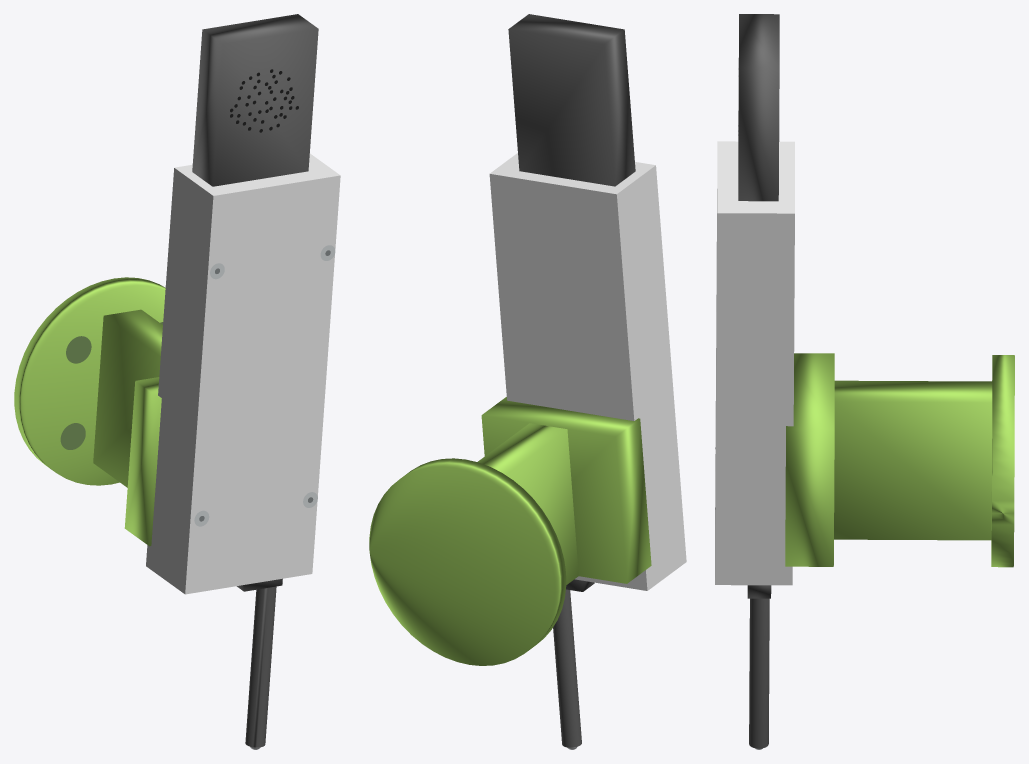
The model's file is pipette_stand_metal_tip.glb.
The picture shows the model from 3 angles, left to right: view 1: azimuth 30°, elevation 25°; view 2: azimuth 150°, elevation 25°; view 3: azimuth 270°, elevation 25°; orthographic projection.
Visible parts, largest first — view 1: white_housing, black_head, green_base, green_upright, green_mount, black_rod, black_vent_marks, green_hole_A_mark, green_hole_B_mark; view 2: white_housing, green_base, black_head, green_mount, green_upright, black_rod; view 3: white_housing, green_upright, green_mount, black_head, green_base, black_rod.
Boxes of the visible parts, bbox=[...] form: white_housing: bbox=[146, 153, 340, 594]; black_head: bbox=[192, 14, 318, 186]; green_base: bbox=[14, 277, 165, 485]; green_upright: bbox=[93, 309, 162, 487]; green_mount: bbox=[124, 377, 161, 546]; black_rod: bbox=[245, 586, 276, 747]; black_vent_marks: bbox=[230, 69, 298, 132]; green_hole_A_mark: bbox=[66, 336, 91, 363]; green_hole_B_mark: bbox=[60, 423, 85, 449]; white_housing: bbox=[489, 153, 686, 590]; green_base: bbox=[369, 458, 566, 665]; black_head: bbox=[508, 14, 635, 186]; green_mount: bbox=[481, 397, 651, 583]; green_upright: bbox=[477, 423, 578, 584]; black_rod: bbox=[553, 589, 581, 747]; white_housing: bbox=[715, 141, 794, 585]; green_upright: bbox=[834, 380, 992, 540]; green_mount: bbox=[785, 353, 834, 566]; black_head: bbox=[738, 14, 779, 201]; green_base: bbox=[991, 355, 1014, 567]; black_rod: bbox=[749, 598, 769, 748].
Bounding box in the file's own units: 0.0672 × 0.25 × 0.095.
